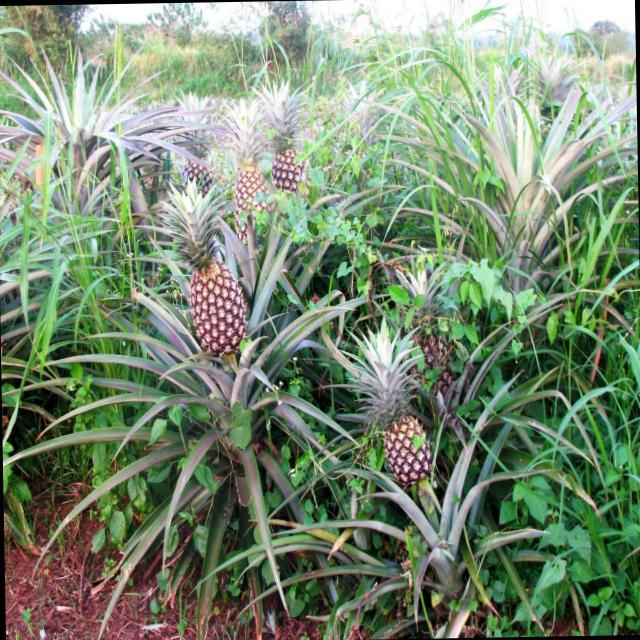PINEAPLE: (164, 179, 249, 360), (358, 334, 438, 490), (253, 78, 301, 218), (230, 134, 277, 248), (418, 307, 462, 368), (181, 138, 215, 190)
